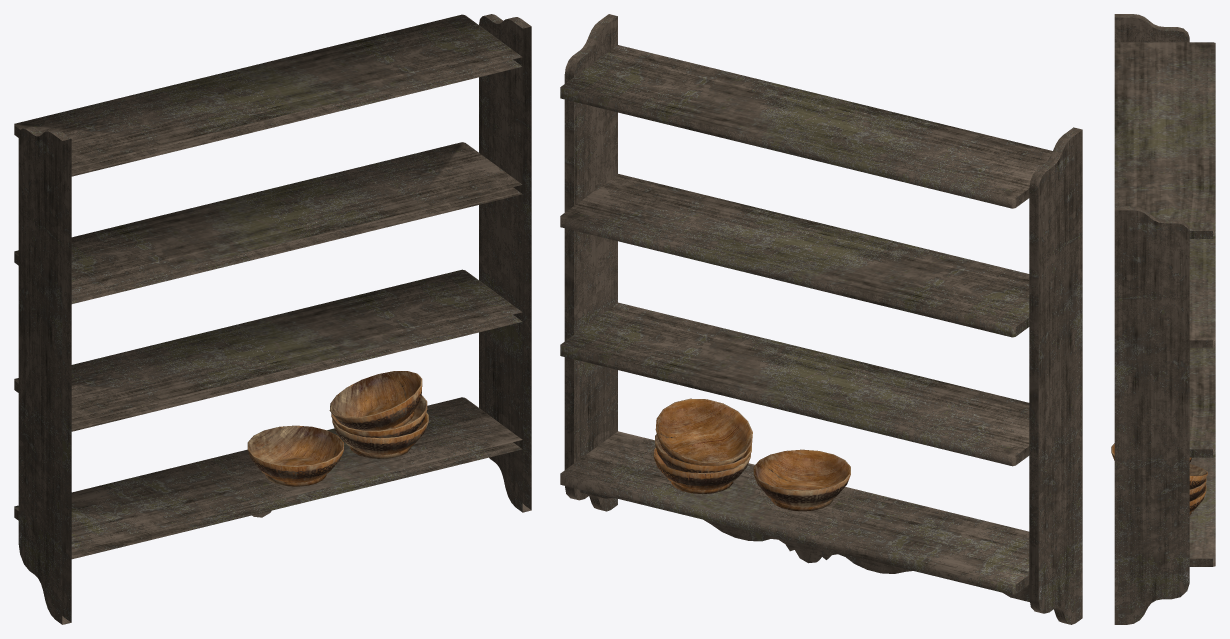
3 renders of one model, left to right at view 1: azimuth 30°, elevation 25°; view 2: azimuth 150°, elevation 25°; view 3: azimuth 270°, elevation 25°, orthographic. The views are drawn at different scales.
Visible parts, largest first — view 1: polka_navesnaya (×6), Group_9 (×4); view 2: polka_navesnaya (×6), Group_9 (×4); view 3: polka_navesnaya (×6), Group_9 (×3).
Part boxes in pixels (x1=…): polka_navesnaya (×6): x1=14, y1=14, x2=531, y2=624; Group_9 (×4): x1=247, y1=371, x2=428, y2=486; polka_navesnaya (×6): x1=560, y1=14, x2=1082, y2=624; Group_9 (×4): x1=653, y1=398, x2=850, y2=511; polka_navesnaya (×6): x1=1114, y1=14, x2=1215, y2=624; Group_9 (×3): x1=1189, y1=464, x2=1207, y2=515.
Bounding box in the file's own units: 71.36 × 16 × 70.31.
2 materials, 2 textured.
